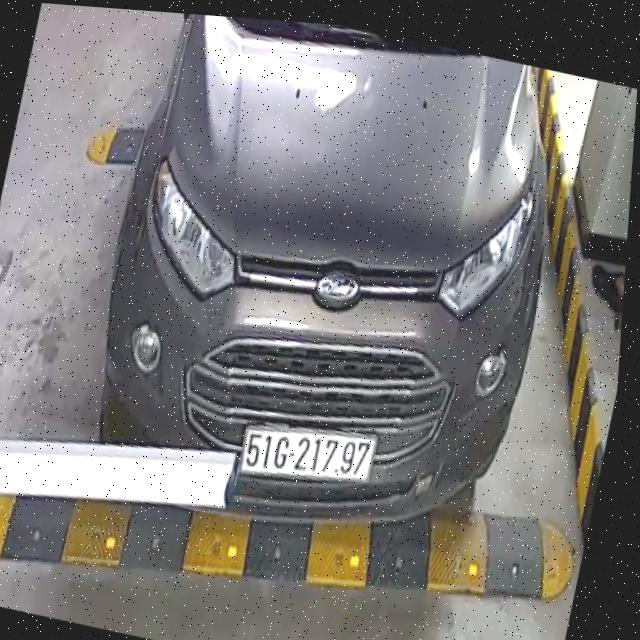car: (43, 6, 597, 597)
plate: (232, 410, 381, 501)
